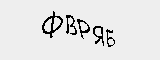Б: (104, 27, 118, 49)
В: (65, 14, 76, 39)
Р: (76, 17, 90, 41)
Ф: (40, 12, 63, 41)
Я: (92, 24, 106, 48)
